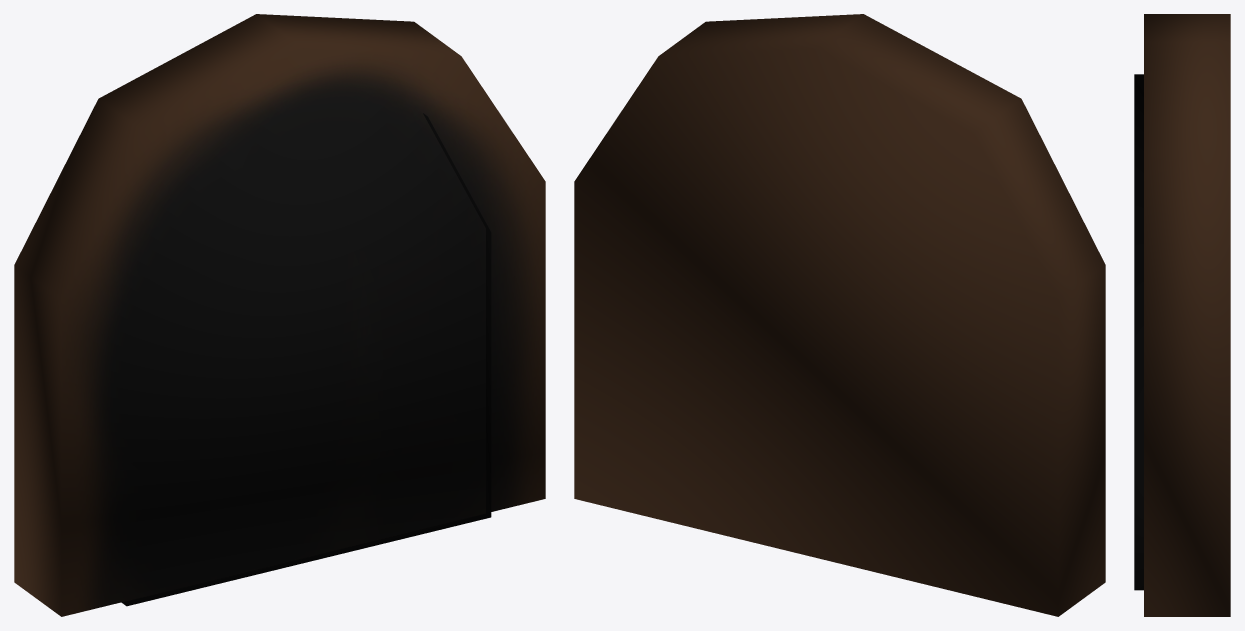
Rendered from toca_rato.fbx.
3 views of the same model, side by side, from view 1: azimuth 30°, elevation 25°; view 2: azimuth 150°, elevation 25°; view 3: azimuth 270°, elevation 25° (orthographic). The views are drawn at different scales.
Parts seen in each view (by area): view 1: Plane; view 2: Plane; view 3: Plane.
Part boxes in pixels (box(x1,y1,x2,y2)): Plane: box(14, 14, 545, 616); Plane: box(574, 14, 1105, 616); Plane: box(1134, 14, 1230, 616).
Bounding box in the file's own units: 266 × 267 × 50.02.
2 materials, 1 textured.
